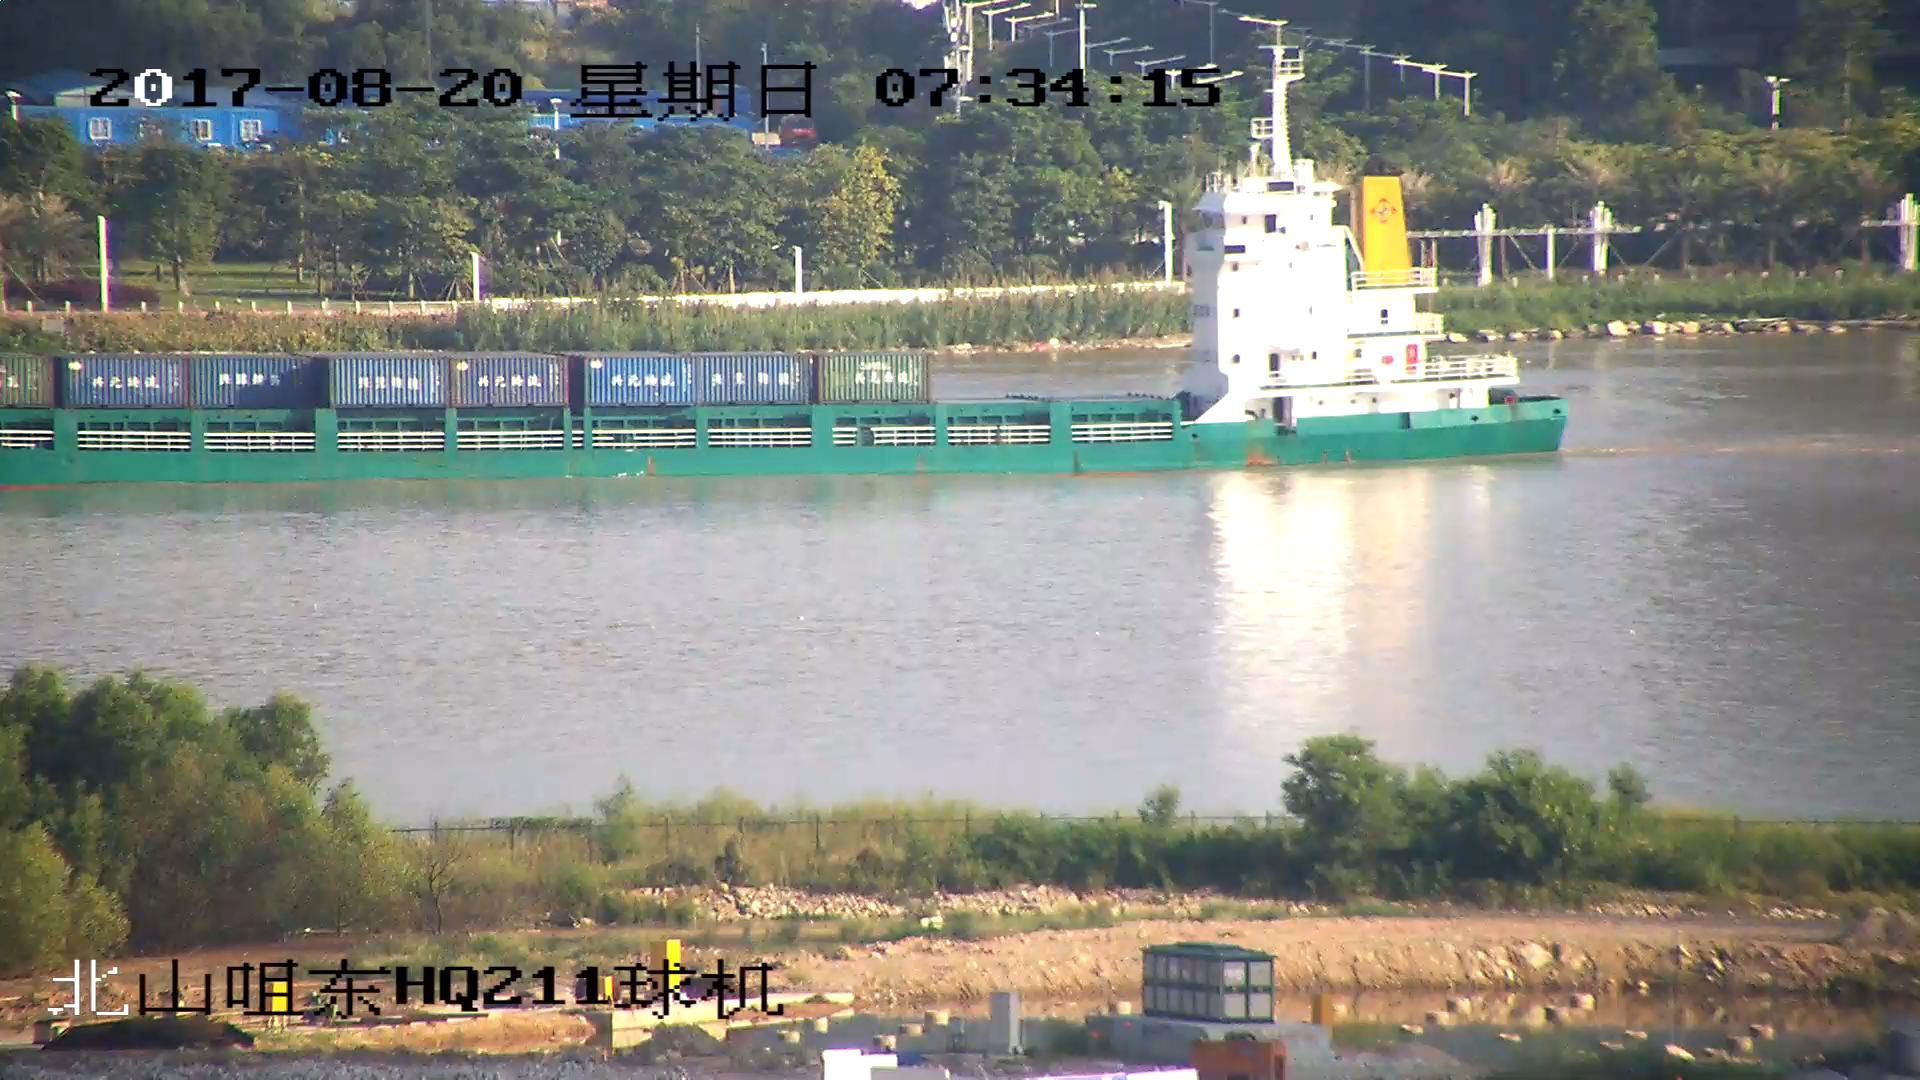general cargo ship: (1, 116, 1564, 490)
